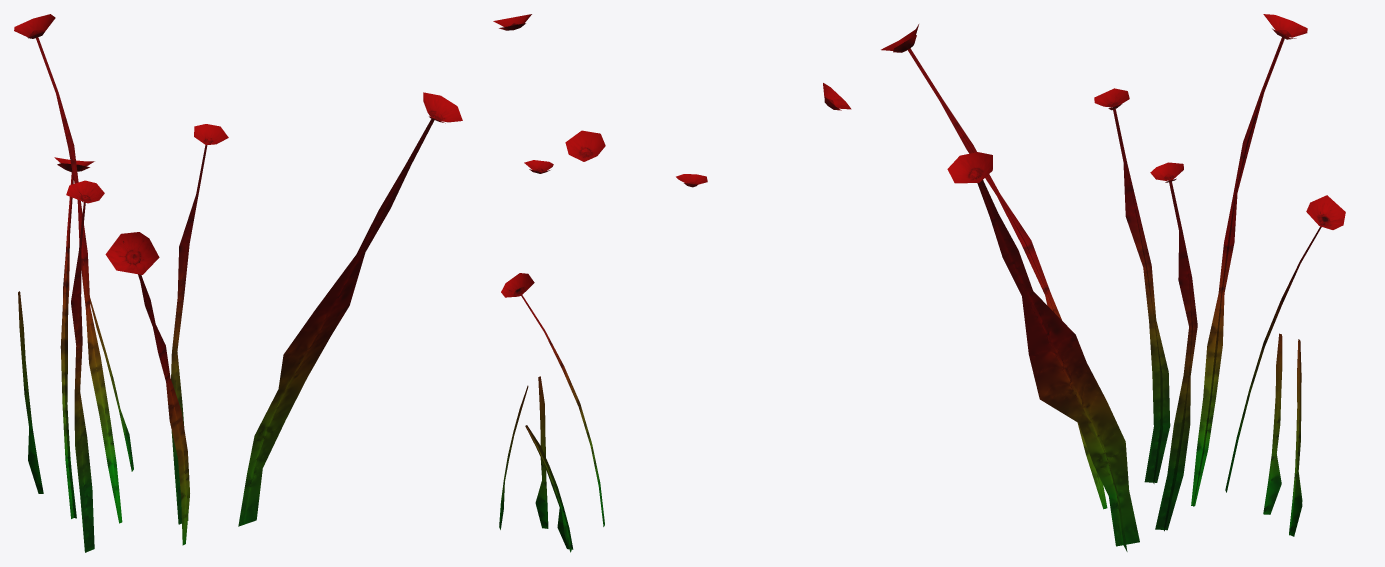
File: White Everlasting_LOD1_Var8_ucvobbbia.glb
3 renders of one model, left to right at view 1: azimuth 30°, elevation 25°; view 2: azimuth 150°, elevation 25°; view 3: azimuth 270°, elevation 25°, orthographic. The views are drawn at different scales.
Visible parts, largest first — view 1: _7e0f_Var8_LOD1; view 2: _7e0f_Var8_LOD1; view 3: _7e0f_Var8_LOD1.
Boxes of the visible parts, x1,y1,x2,y2 form: _7e0f_Var8_LOD1: (14,14,462,552); _7e0f_Var8_LOD1: (493,14,851,552); _7e0f_Var8_LOD1: (881,14,1345,551).
Size of the model in its own units: 0.4429 by 0.5357 by 0.5001.
1 material, 1 textured.
